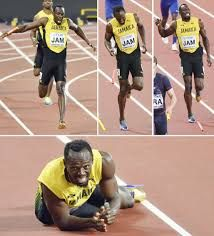fall: (29, 133, 144, 234)
